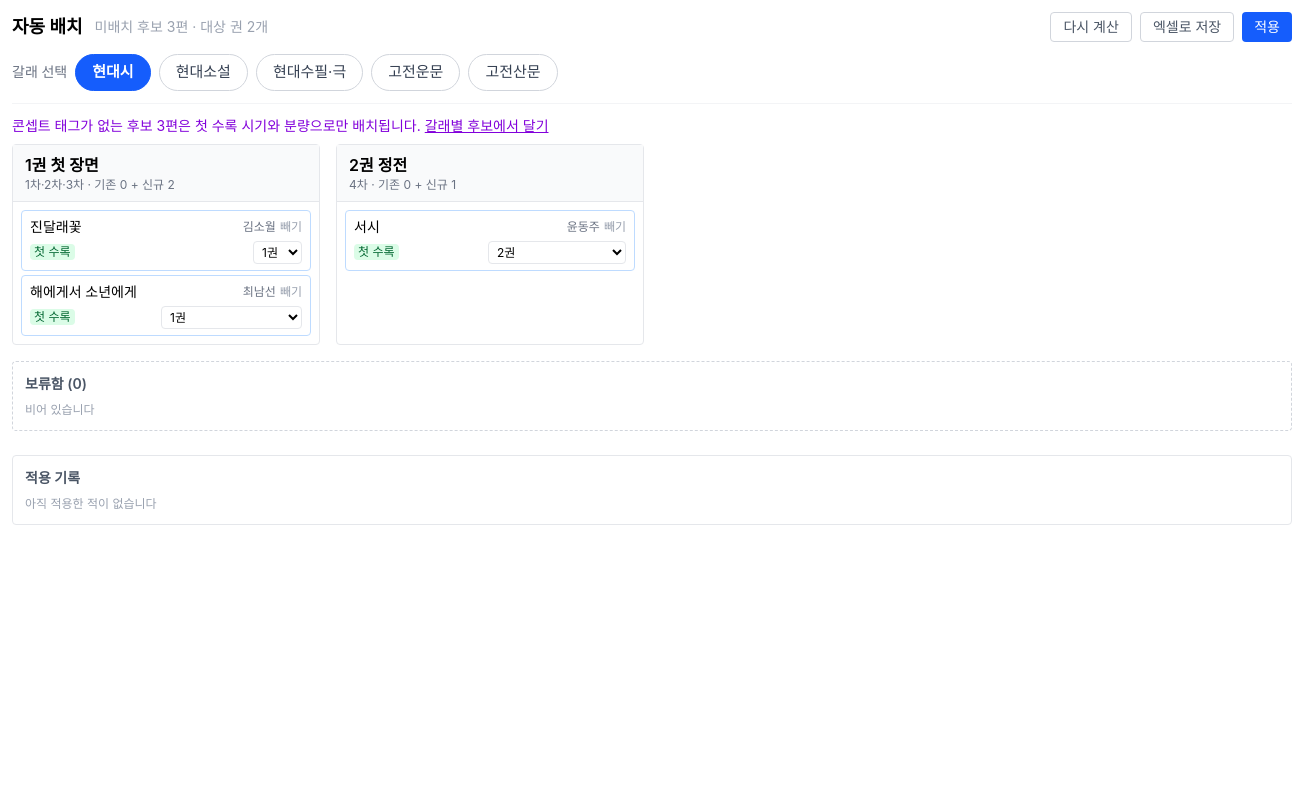
적용하면 부를 확보하고 한 편씩 추가한 뒤 요약을 보여 준다
The image size is (1304, 812).
Click the button "적용".
click(1267, 27)  # box left=1242, top=12, right=1292, bottom=42
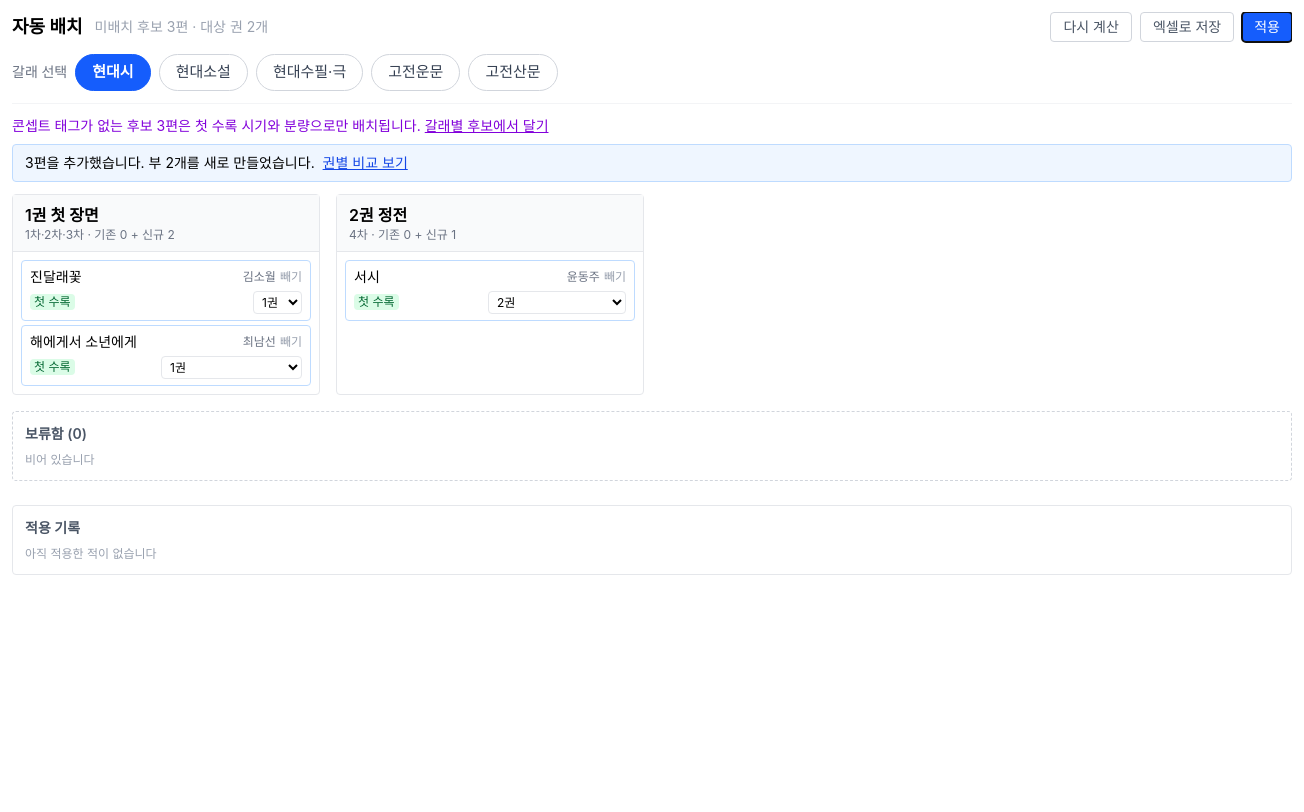
Result: the text "3편을 추가했습니다. 부 2개를 새로 만들었습니다. 권별 비교 보기" is shown at left=12, top=144, right=1292, bottom=182
